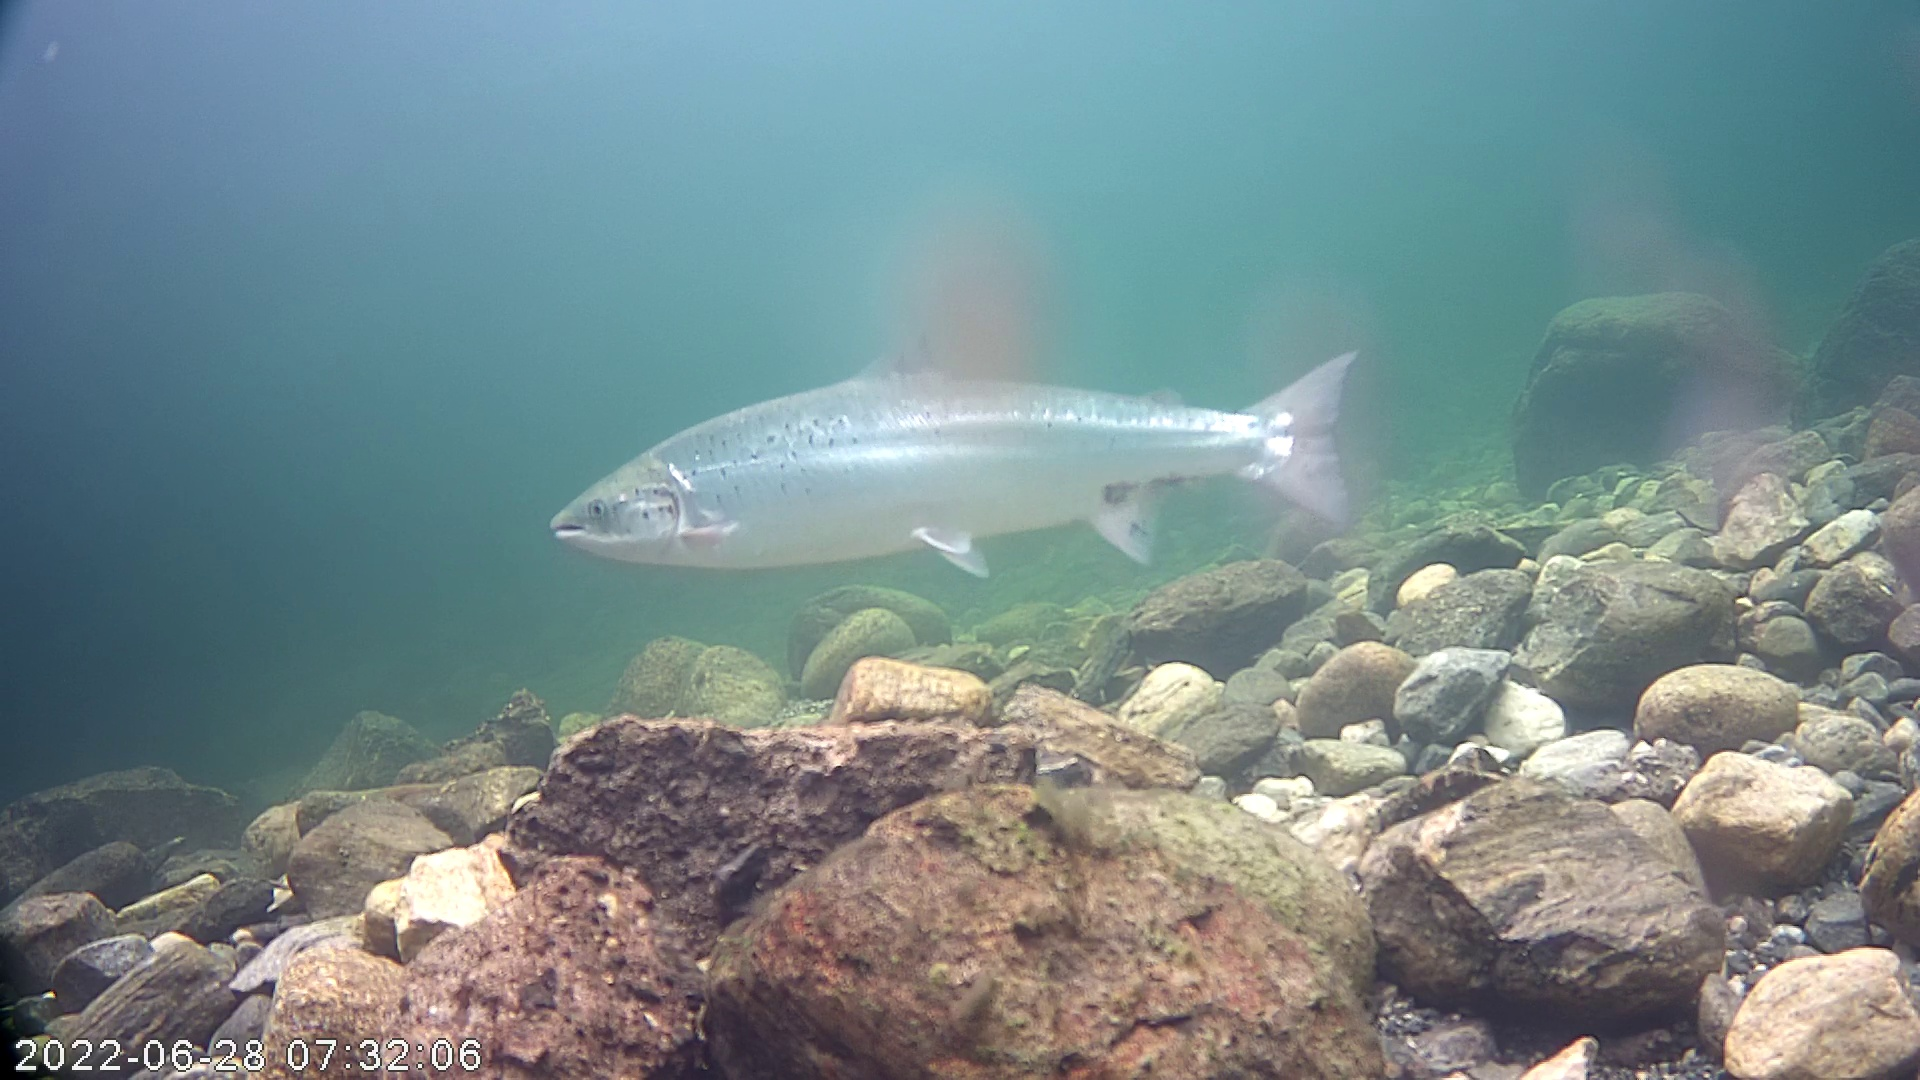salmon: (543, 195, 1387, 632)
